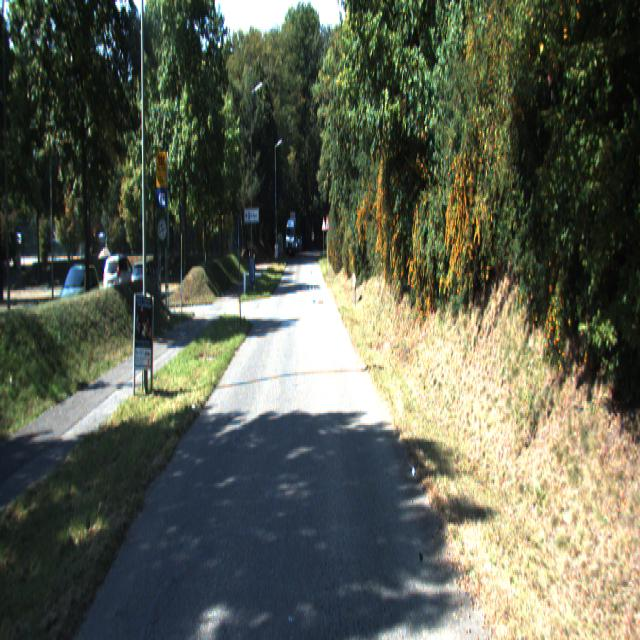Car: (55, 263, 104, 331), (103, 253, 137, 304)
